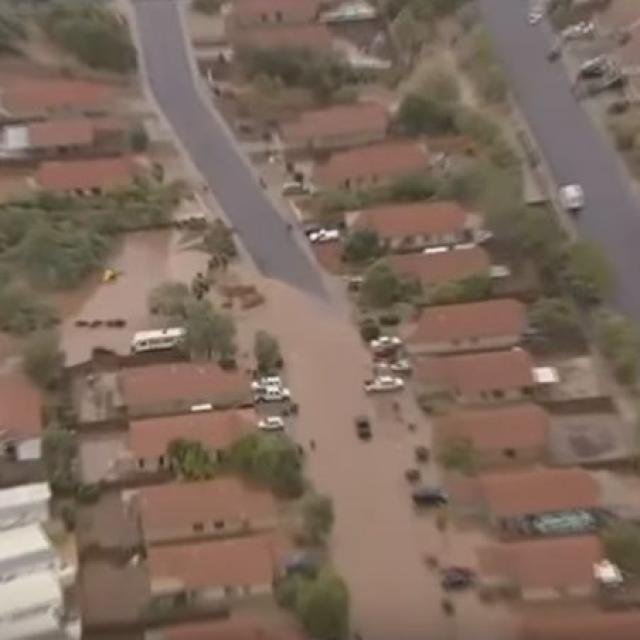flooded_areas: (46, 224, 472, 638)
